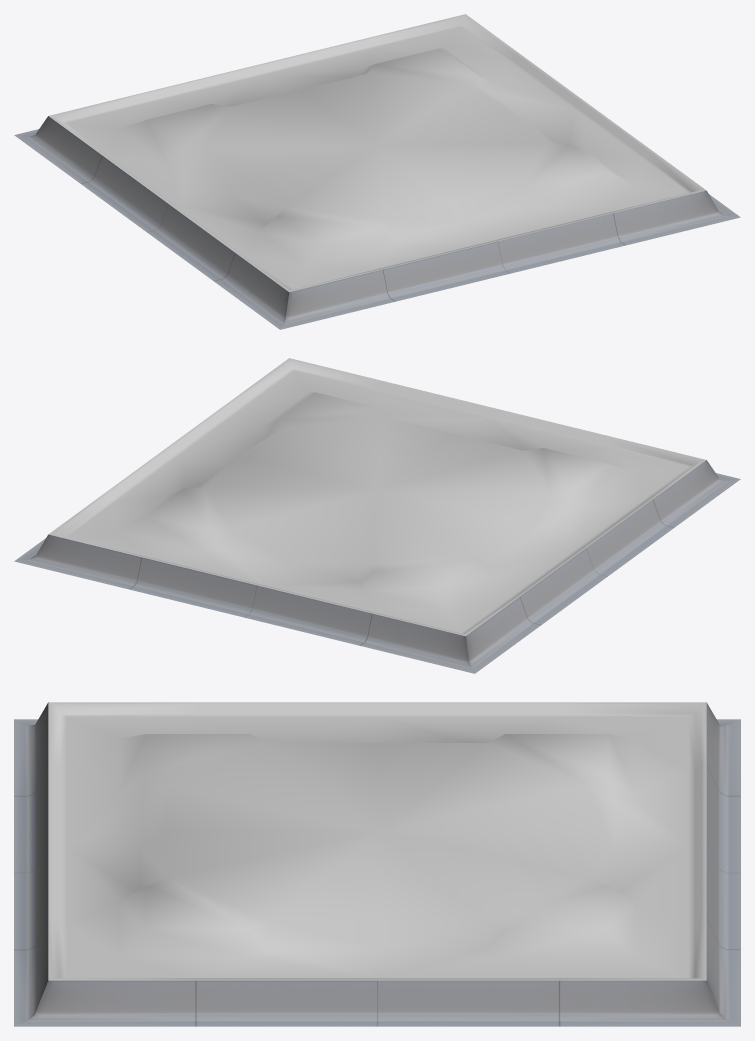
Rendered from Room_A_ceiling_4mx4m.fbx.
The picture shows the model from 3 angles, top to bottom: view 1: azimuth 30°, elevation 25°; view 2: azimuth 150°, elevation 25°; view 3: azimuth 270°, elevation 25°; orthographic projection. The views are drawn at different scales.
Parts seen in each view (by area): view 1: Room_A_ceiling_4mx4m; view 2: Room_A_ceiling_4mx4m; view 3: Room_A_ceiling_4mx4m.
Boxes of the visible parts, left/top/right/bottom form: Room_A_ceiling_4mx4m: left=14, top=14, right=740, bottom=329; Room_A_ceiling_4mx4m: left=14, top=358, right=740, bottom=673; Room_A_ceiling_4mx4m: left=14, top=702, right=740, bottom=1026.
Size of the model in its own units: 400 by 25.13 by 400.
